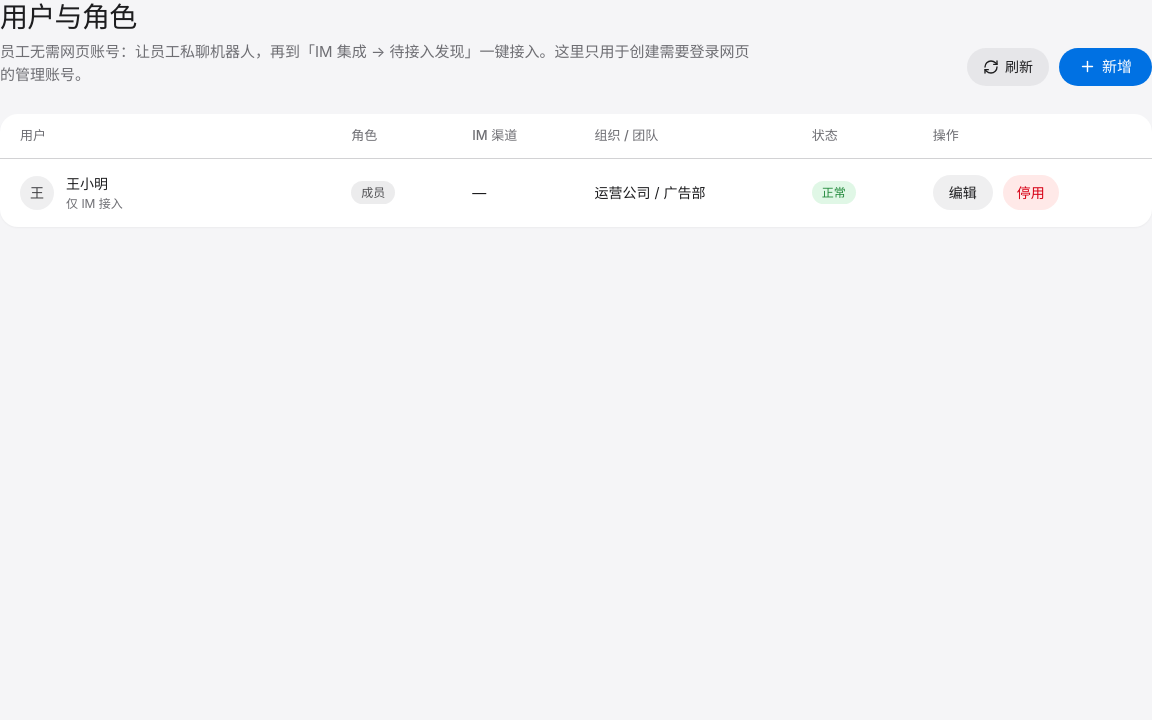
Test: moves a member to another role and department, and sends the placement only when it changed
The width and height of the screenshot is (1152, 720).
Click the button "编辑" at [963, 192], box [933,175,993,210]
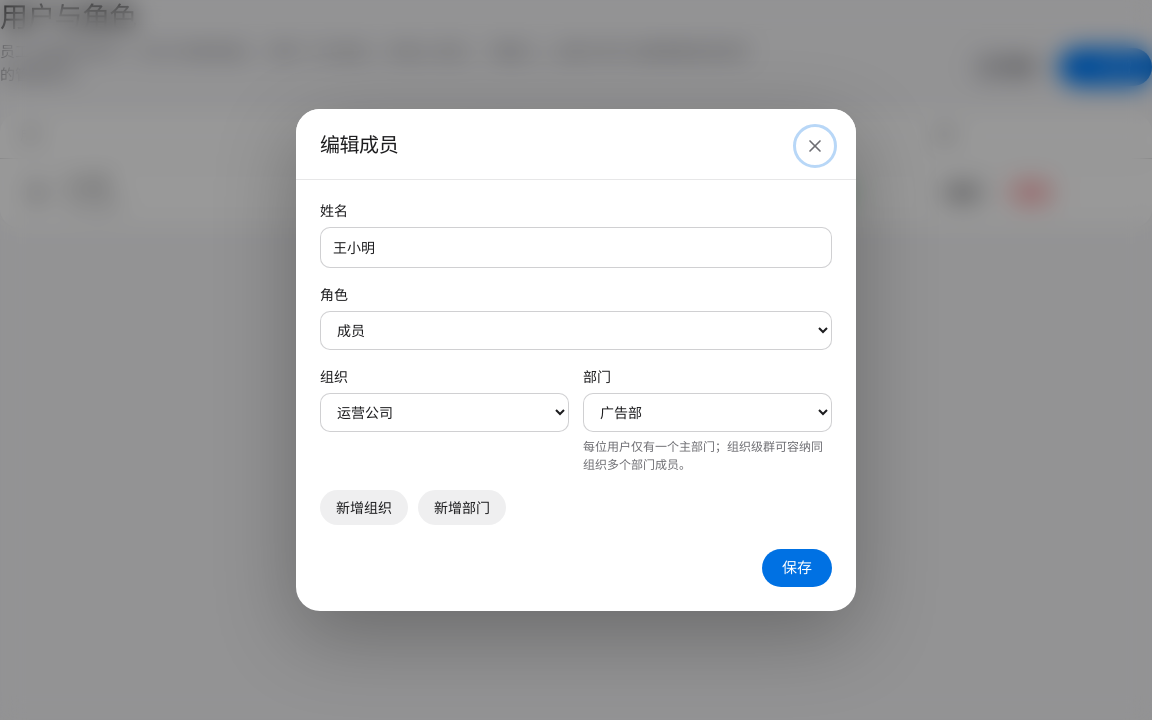
Expected: the text "保存后立即生效" is not shown
Select "团队负责人" in the dropdown labelled "角色" at [576, 330], box [320,311,832,350]
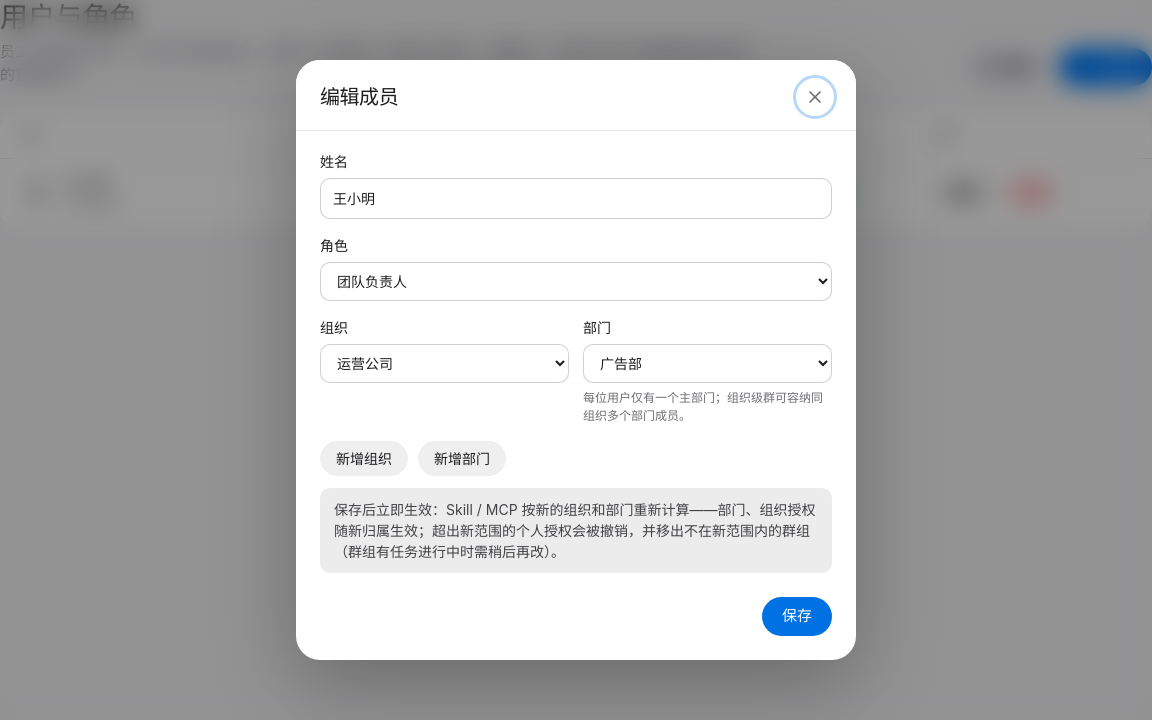
Select "运营" in the dropdown labelled "部门" at [708, 364], box [583,344,832,383]
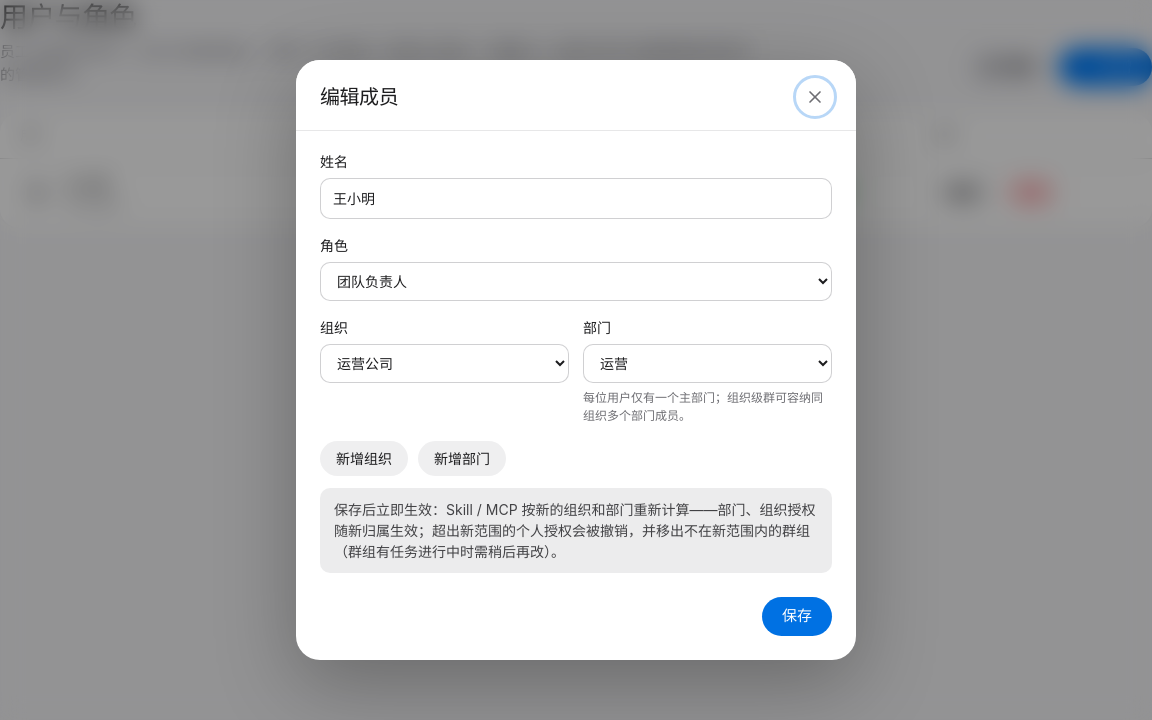
Expected: the text "超出新范围的个人授权会被撤销" is shown, [334,501,816,560]
Click the button "保存" at [797, 617], box [762,597,832,636]
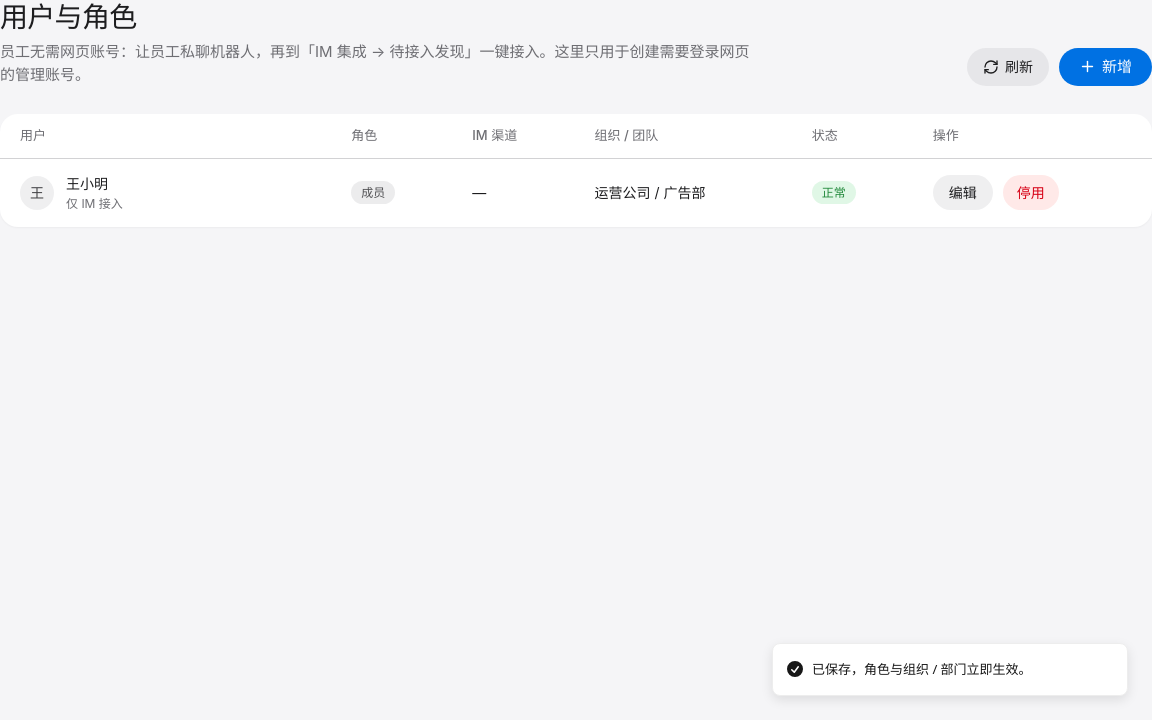
Expected: the text "已保存，角色与组织 / 部门立即生效。" is shown, [812,660,1032,679]
